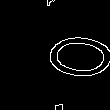O_W: (8, 27, 102, 83)
